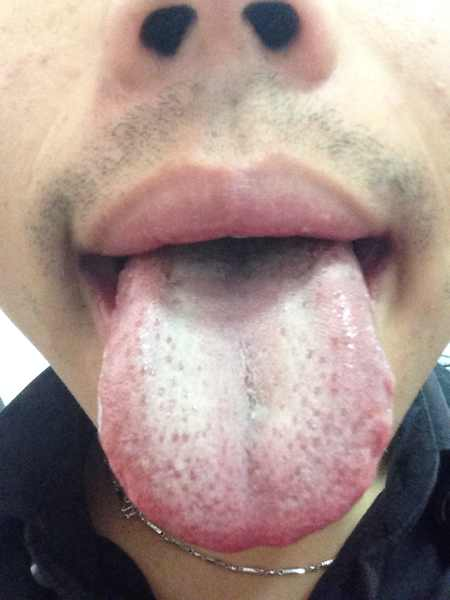baitaishe: (98, 237, 395, 552)
hongshe: (98, 237, 395, 552)
